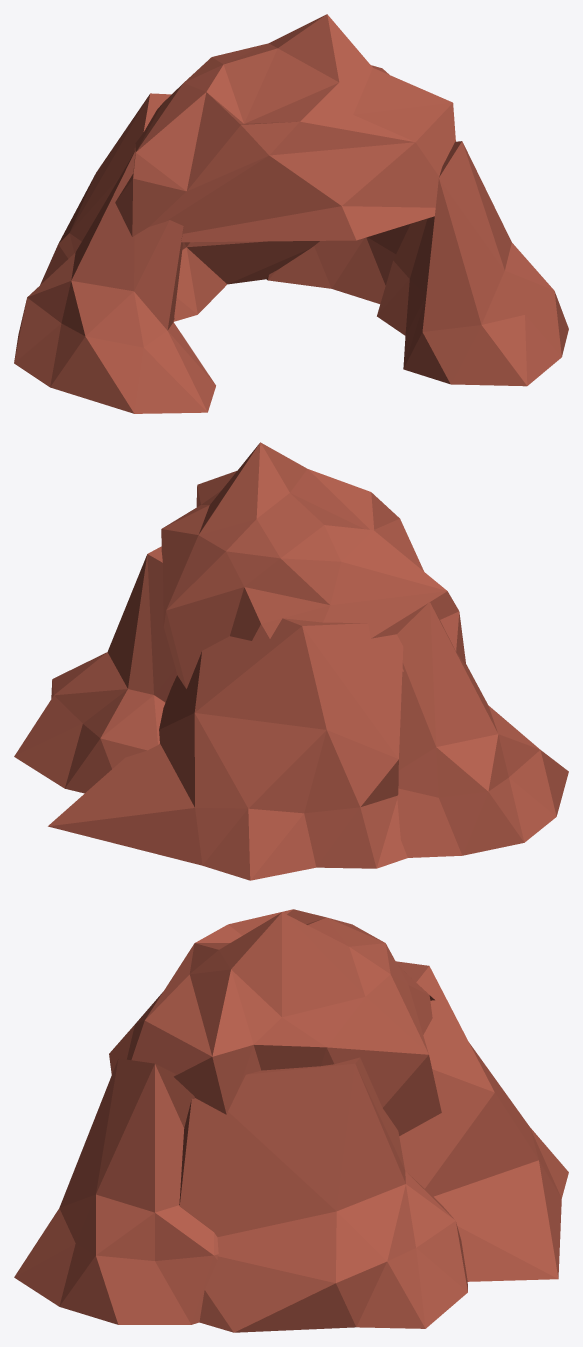
The model's file is Cave_C.dae.
The picture shows the model from 3 angles, top to bottom: view 1: azimuth 30°, elevation 25°; view 2: azimuth 150°, elevation 25°; view 3: azimuth 270°, elevation 25°; orthographic projection. The views are drawn at different scales.
Parts seen in each view (by area): view 1: Cave; view 2: Cave; view 3: Cave.
Boxes of the visible parts, x1=… form: Cave: x1=14, y1=14, x2=568, y2=413; Cave: x1=14, y1=442, x2=568, y2=880; Cave: x1=14, y1=909, x2=568, y2=1332.
Bounding box in the file's own units: 4.93 × 4.7 × 3.03.
